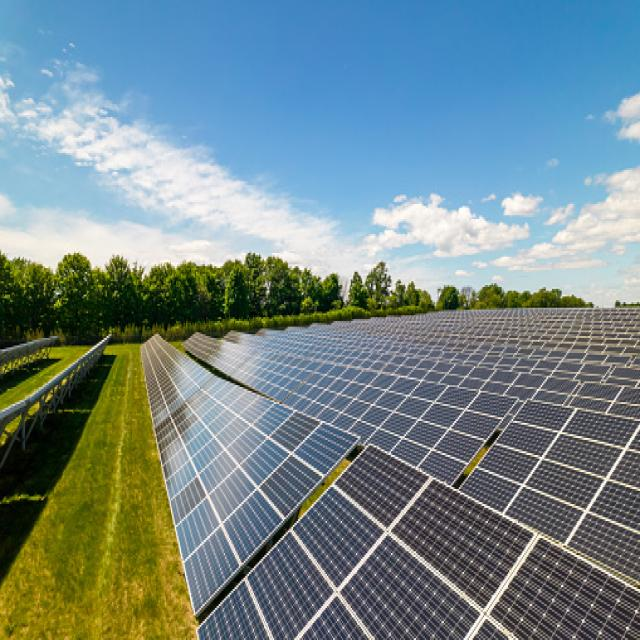clean-solar-panel: (200, 447, 640, 640)
